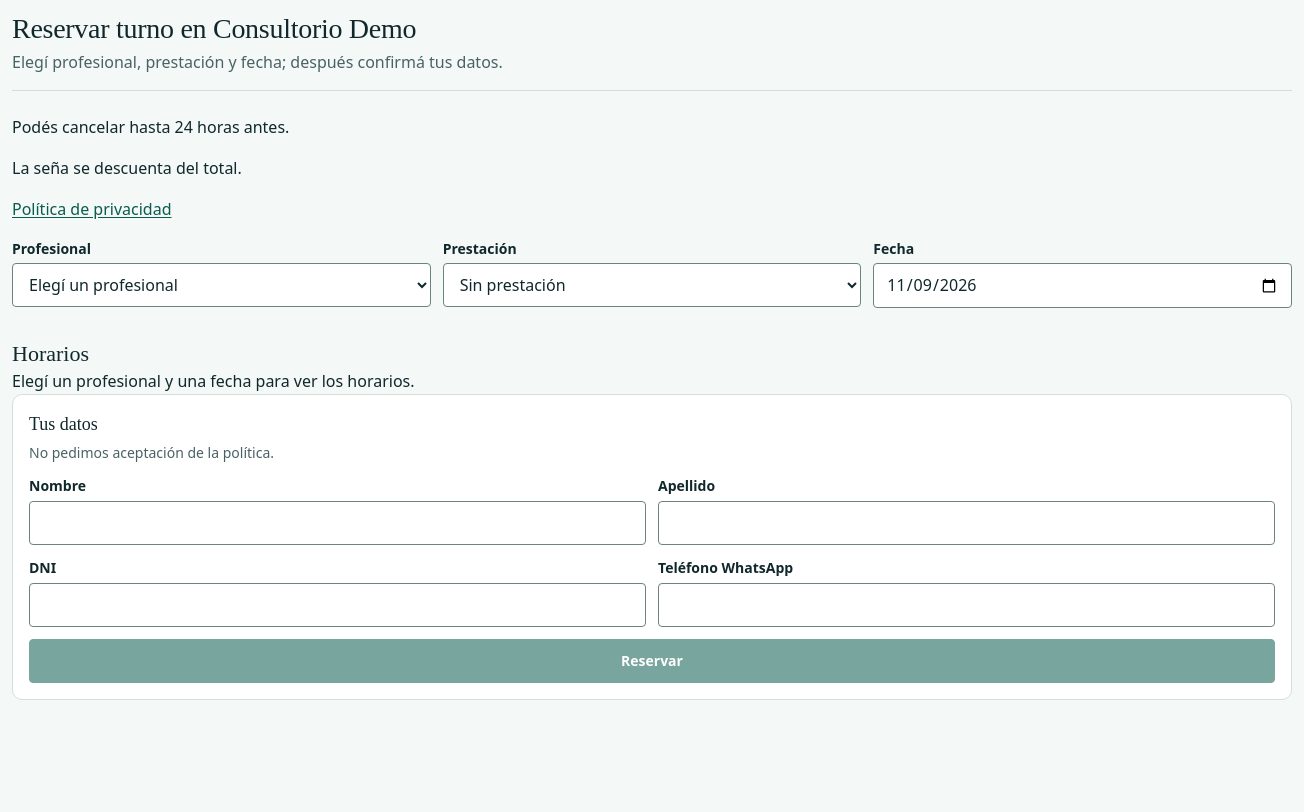
Test case: ReservaPage › muestra el catálogo y los slots reales
Expected: the heading "Reservar turno en Consultorio Demo" is shown, [12,13,416,44]
Step 1. Select "MP-1 (general)" in the dropdown labelled "Profesional" → (221, 286), box [12,264,431,308]
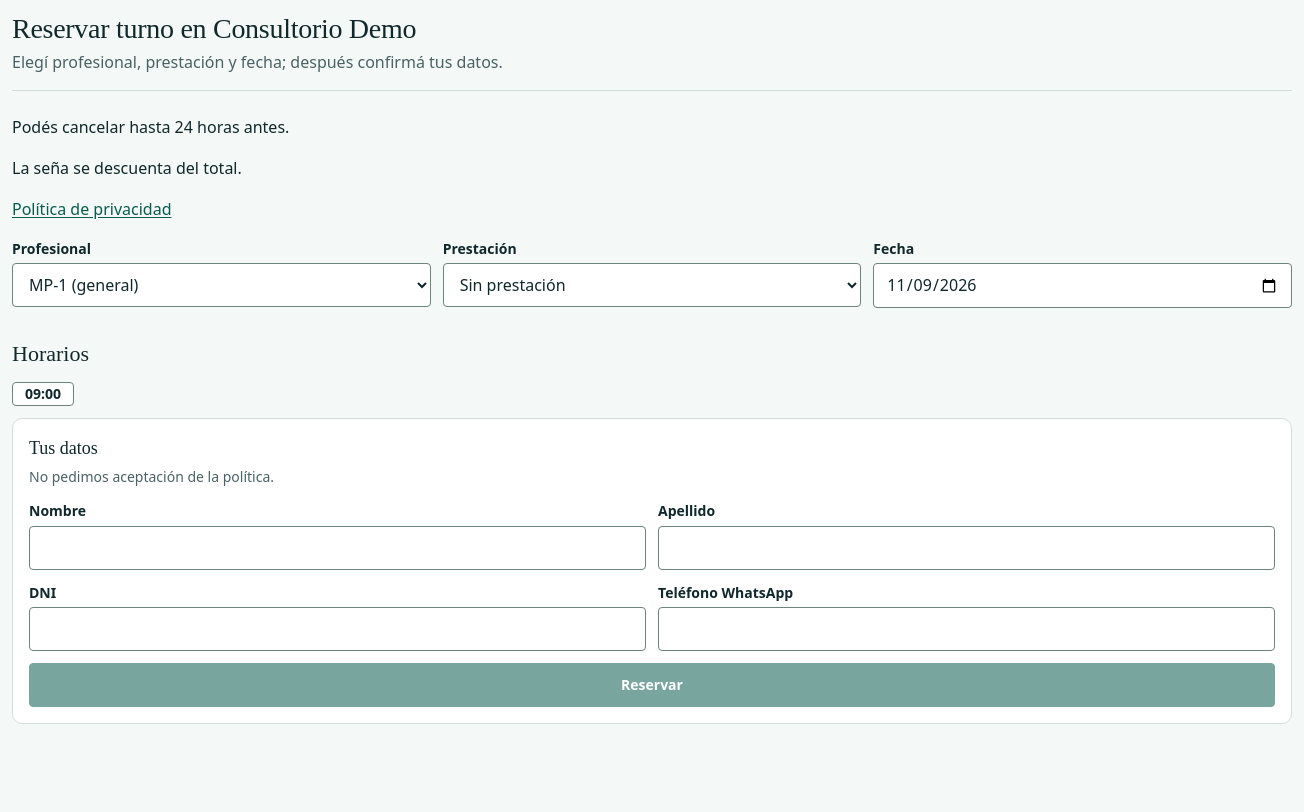
Result: the button "09:00" is shown at [12,382,74,406]
